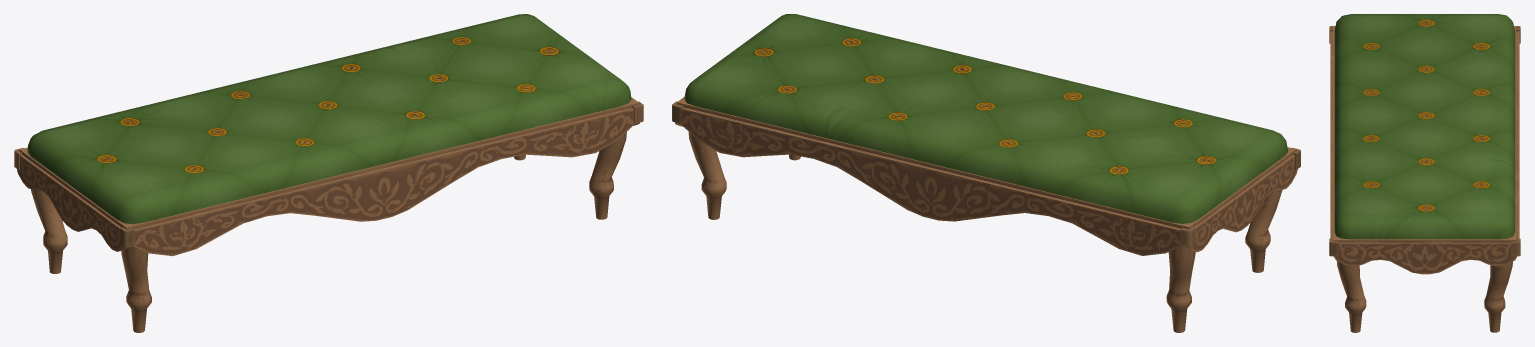
The model's file is ARC0510120.fbx.
3 views of the same model, side by side, from view 1: azimuth 30°, elevation 25°; view 2: azimuth 150°, elevation 25°; view 3: azimuth 270°, elevation 25° (orthographic). The views are drawn at different scales.
Visible parts, largest first — view 1: smARC0510120; view 2: smARC0510120; view 3: smARC0510120.
Boxes of the visible parts, x1=… form: smARC0510120: x1=14, y1=14, x2=643, y2=332; smARC0510120: x1=672, y1=14, x2=1300, y2=332; smARC0510120: x1=1329, y1=14, x2=1520, y2=332.
Size of the model in its own units: 227 by 57.91 by 84.84.
1 material, 1 textured.
